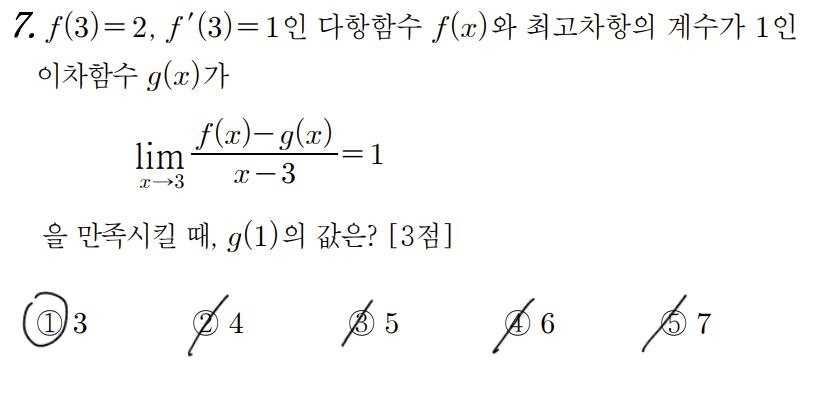1: (22, 289, 70, 348)
paper: (657, 307, 690, 341), (502, 306, 535, 340), (345, 304, 378, 338), (190, 305, 223, 339), (33, 304, 66, 338)
